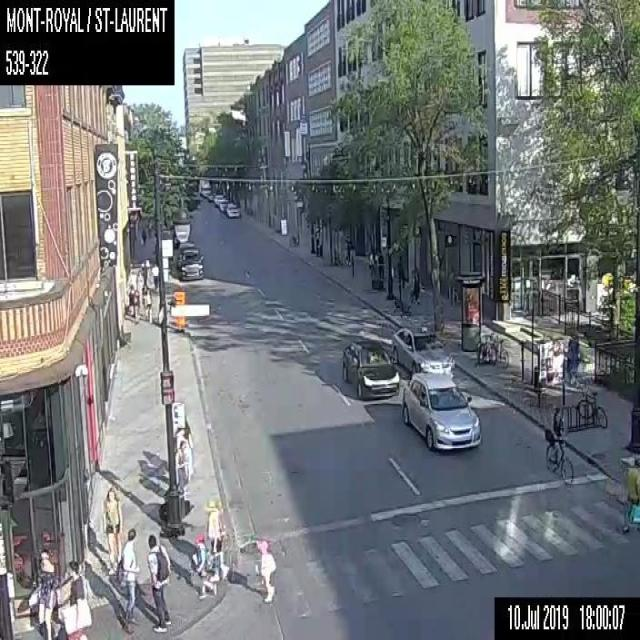construction: (172, 291, 185, 332)
cyclist: (542, 405, 572, 484)
pedestrian: (28, 548, 58, 639), (118, 525, 143, 633), (146, 532, 172, 632), (63, 558, 91, 638), (100, 485, 125, 572), (202, 494, 227, 556), (189, 534, 209, 601), (256, 538, 274, 602), (624, 456, 639, 531), (174, 428, 192, 489), (208, 547, 228, 594), (125, 282, 135, 320), (411, 262, 420, 302), (139, 258, 149, 291), (132, 284, 141, 320), (144, 286, 152, 322), (134, 268, 144, 294), (150, 262, 158, 290), (344, 234, 351, 266), (138, 225, 146, 245)
vehicle: (401, 370, 480, 449), (341, 337, 399, 399), (391, 326, 457, 374), (176, 242, 203, 280), (225, 203, 241, 218), (198, 179, 210, 196), (213, 194, 225, 206), (218, 199, 228, 211), (207, 192, 215, 201)
